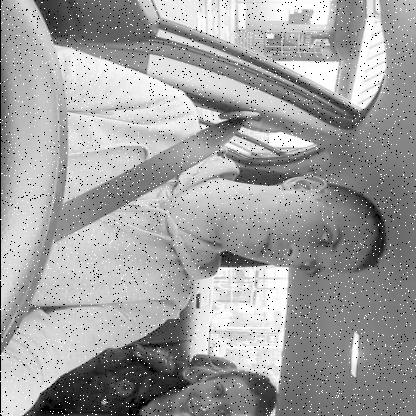seatbelt: (21, 99, 407, 297)
